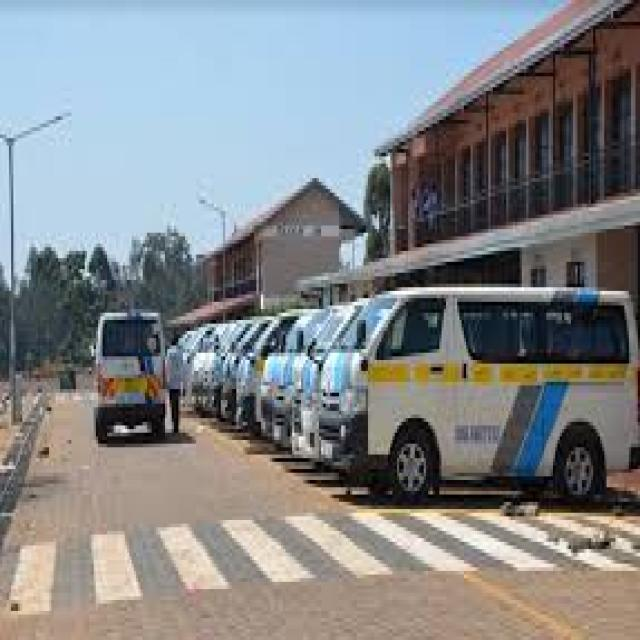matatu: (315, 260, 640, 538), (76, 258, 196, 466)
